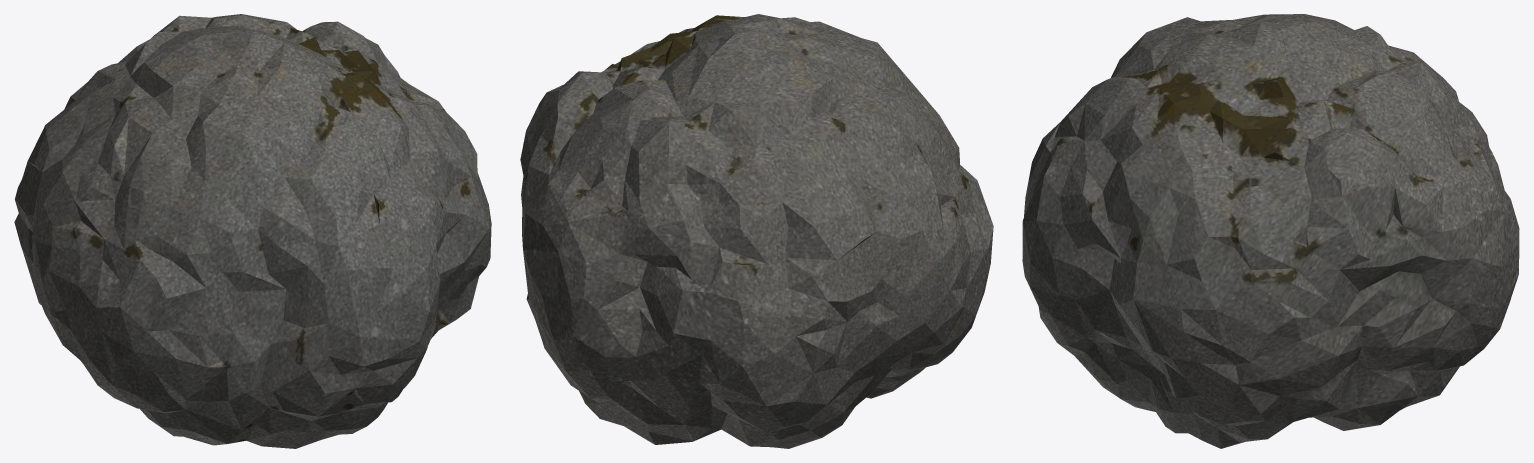
The model's file is boulder_a.glb.
The picture shows the model from 3 angles, left to right: view 1: azimuth 30°, elevation 25°; view 2: azimuth 150°, elevation 25°; view 3: azimuth 270°, elevation 25°; orthographic projection. The views are drawn at different scales.
Visible parts, largest first — view 1: lo; view 2: lo; view 3: lo.
Boxes of the visible parts, x1,y1,x2,y2 form: lo: (14,14,491,448); lo: (520,14,993,448); lo: (1022,14,1519,448).
Size of the model in its own units: 0.9798 by 0.8192 by 0.9966.
Materials: 1 (1 with a texture image).
